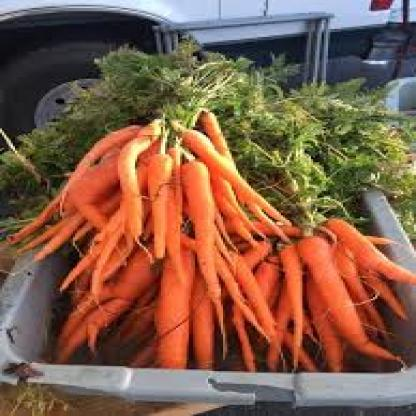Disposable tableware: (2, 0, 416, 406)
